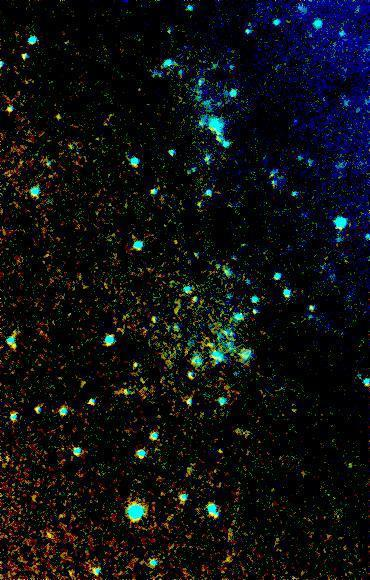star: (55, 550, 85, 580)
